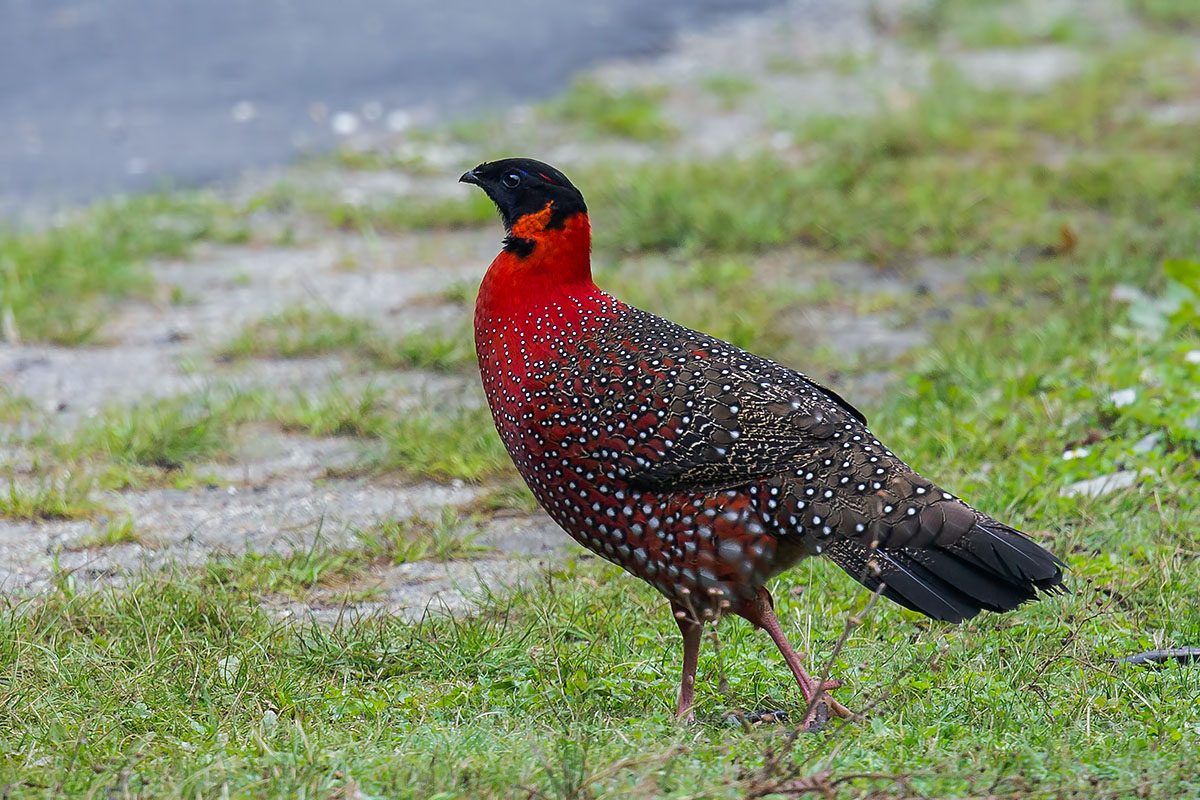bird: (442, 147, 1072, 741)
